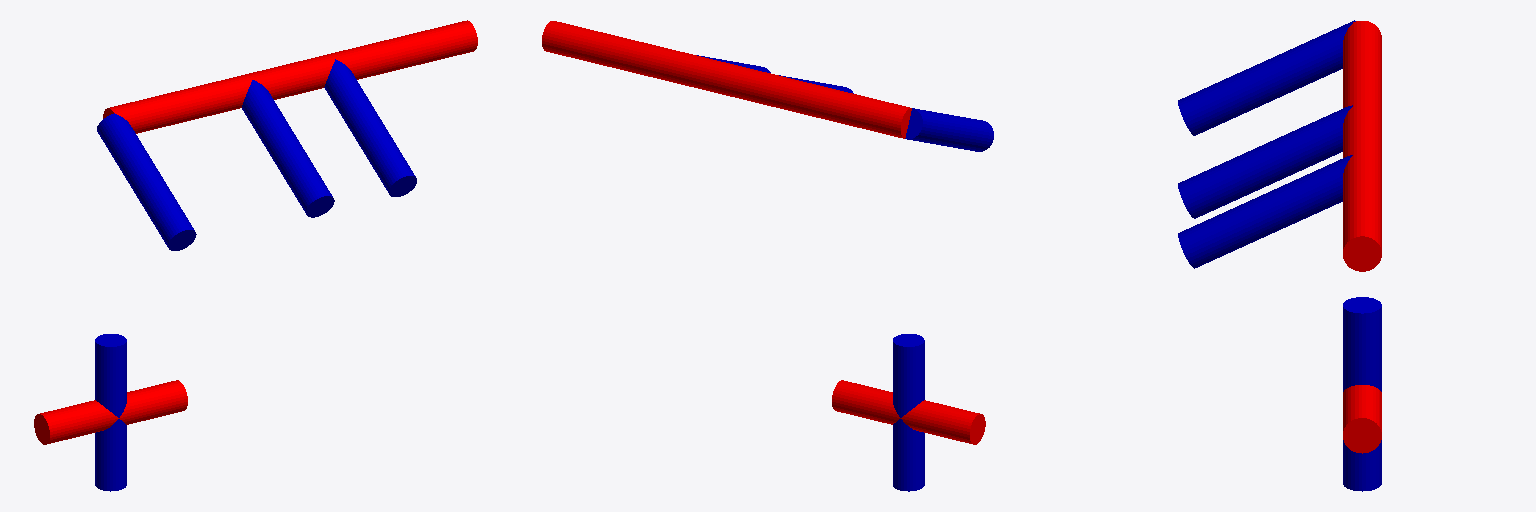
URDF robot description (example_robot):
<robot name="example_robot">
    <link name="link0_passive">
        <visual>
            <material name="blue">
                <color rgba="0 0 .8 1"/>
            </material>
            <geometry>
                <cylinder length="0.5" radius="0.05"/>
            </geometry>
        </visual>
    </link>
    <link name="link0_x_axis">
        <visual>
            <material name="red">
                <color rgba="1 0 0 1"/>
            </material>
            <geometry>
                <cylinder length="0.5" radius="0.05"/>
            </geometry>
        </visual>
    </link>
    <joint name="q0_x" type="fixed">
        <origin xyz="0 0 0" rpy="0 1.571 0"/>
        <parent link="link0_passive"/>
        <child link="link0_x_axis"/>
    </joint>
    <link name="link1"/>
    <link name="link1_x_axis">
        <visual>
            <origin xyz="0 0 0.25" rpy="0 0 0"/>
            <material name="red"/>
            <geometry>
                <cylinder length="0.5" radius="0.05"/>
            </geometry>
        </visual>
    </link>
    <joint name="q1" type="revolute">
        <origin xyz="0 0 1" rpy="0 0 0"/>
        <parent link="link0_passive"/>
        <child link="link1"/>
        <axis xyz="0 0 1"/>
        <limit effort="100" lower="0" upper="1.57" velocity="1.0"/>
    </joint>
    <joint name="q1_passive" type="fixed">
        <origin xyz="0 0 0" rpy="90 0 0"/>
        <parent link="link1"/>
        <child link="link1_passive"/>
    </joint>
    <link name="link1_passive">
        <visual>
            <origin xyz="0 0 0.25" rpy="0 0 0"/>
            <material name="blue"/>
            <geometry>
                <cylinder length="0.5" radius="0.05"/>
            </geometry>
        </visual>
    </link>
    <joint name="q1_x" type="fixed">
        <origin xyz="0 0 0" rpy="0 1.571 0"/>
        <parent link="link1_passive"/>
        <child link="link1_x_axis"/>
    </joint>
    <link name="link2"/>
    <link name="link2_x_axis">
        <visual>
            <origin xyz="0 0 0.25" rpy="0 0 0"/>
            <material name="red"/>
            <geometry>
                <cylinder length="0.5" radius="0.05"/>
            </geometry>
        </visual>
    </link>
    <joint name="q2" type="revolute">
        <origin xyz="0 0 0" rpy="0 0 0"/>
        <parent link="link1_passive"/>
        <child link="link2"/>
        <axis xyz="0 0 1"/>
        <limit effort="100" lower="0" upper="1.57" velocity="1.0"/>
    </joint>
    <joint name="q2_passive" type="fixed">
        <origin xyz="0.5 0 0" rpy="0 0 0"/>
        <parent link="link2"/>
        <child link="link2_passive"/>
    </joint>
    <link name="link2_passive">
        <visual>
            <origin xyz="0 0 0.25" rpy="0 0 0"/>
            <material name="blue"/>
            <geometry>
                <cylinder length="0.5" radius="0.05"/>
            </geometry>
        </visual>
    </link>
    <joint name="q2_x" type="fixed">
        <origin xyz="0 0 0" rpy="0 1.571 0"/>
        <parent link="link2_passive"/>
        <child link="link2_x_axis"/>
    </joint>
    <link name="link3"/>
    <link name="link3_x_axis">
        <visual>
            <origin xyz="0 0 0.25" rpy="0 0 0"/>
            <material name="red"/>
            <geometry>
                <cylinder length="0.5" radius="0.05"/>
            </geometry>
        </visual>
    </link>
    <joint name="q3" type="revolute">
        <origin xyz="0 0 0" rpy="0 0 0"/>
        <parent link="link2_passive"/>
        <child link="link3"/>
        <axis xyz="0 0 1"/>
        <limit effort="100" lower="0" upper="1.57" velocity="1.0"/>
    </joint>
    <joint name="q3_passive" type="fixed">
        <origin xyz="0.3 0 0" rpy="0 0 0"/>
        <parent link="link3"/>
        <child link="link3_passive"/>
    </joint>
    <link name="link3_passive">
        <visual>
            <origin xyz="0 0 0.25" rpy="0 0 0"/>
            <material name="blue"/>
            <geometry>
                <cylinder length="0.5" radius="0.05"/>
            </geometry>
        </visual>
    </link>
    <joint name="q3_x" type="fixed">
        <origin xyz="0 0 0" rpy="0 1.571 0"/>
        <parent link="link3_passive"/>
        <child link="link3_x_axis"/>
    </joint>
</robot>

--- Facts derived from the render (not from the file) ---
Views: 3 orthographic renders of the robot side by side, from view 1: azimuth 30°, elevation 25°; view 2: azimuth 150°, elevation 25°; view 3: azimuth 270°, elevation 25°.
Model example_robot with 11 links and 10 joints (3 revolute, 7 fixed), rooted at link0_passive, posed all joints at 0.
Visible links, largest first — view 1: link1_passive, link2_passive, link3_passive, link0_passive, link0_x_axis, link1_x_axis, link3_x_axis, link2_x_axis; view 2: link1_x_axis, link2_x_axis, link0_passive, link0_x_axis, link3_x_axis, link1_passive; view 3: link1_passive, link2_passive, link3_passive, link0_passive, link3_x_axis, link1_x_axis, link2_x_axis, link0_x_axis.
Link boxes in pixels (box(x1,y1,x2,y2)): link1_passive: box(97, 113, 196, 250); link2_passive: box(242, 80, 334, 217); link3_passive: box(324, 59, 416, 196); link0_passive: box(95, 334, 126, 491); link0_x_axis: box(34, 380, 187, 444); link1_x_axis: box(103, 74, 252, 133); link3_x_axis: box(336, 20, 477, 79); link2_x_axis: box(247, 41, 389, 99); link1_x_axis: box(763, 74, 911, 138); link2_x_axis: box(625, 41, 772, 104); link0_passive: box(893, 334, 924, 491); link0_x_axis: box(832, 380, 985, 444); link3_x_axis: box(542, 21, 634, 70); link1_passive: box(905, 108, 993, 151); link1_passive: box(1178, 20, 1355, 135); link2_passive: box(1178, 105, 1352, 218); link3_passive: box(1178, 155, 1352, 268); link0_passive: box(1343, 297, 1381, 491); link3_x_axis: box(1343, 155, 1381, 271); link1_x_axis: box(1343, 21, 1381, 117); link2_x_axis: box(1343, 104, 1381, 200); link0_x_axis: box(1343, 385, 1381, 453).
Size in the robot's own frame: 1.55 by 0.5194 by 1.3 metres.
Geometry: primitives only (box / cylinder / sphere), no mesh files.